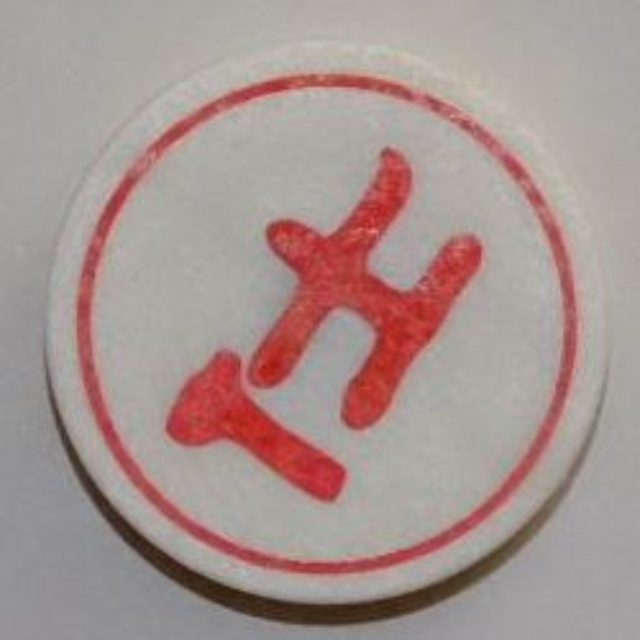red_si: (42, 34, 617, 615)
